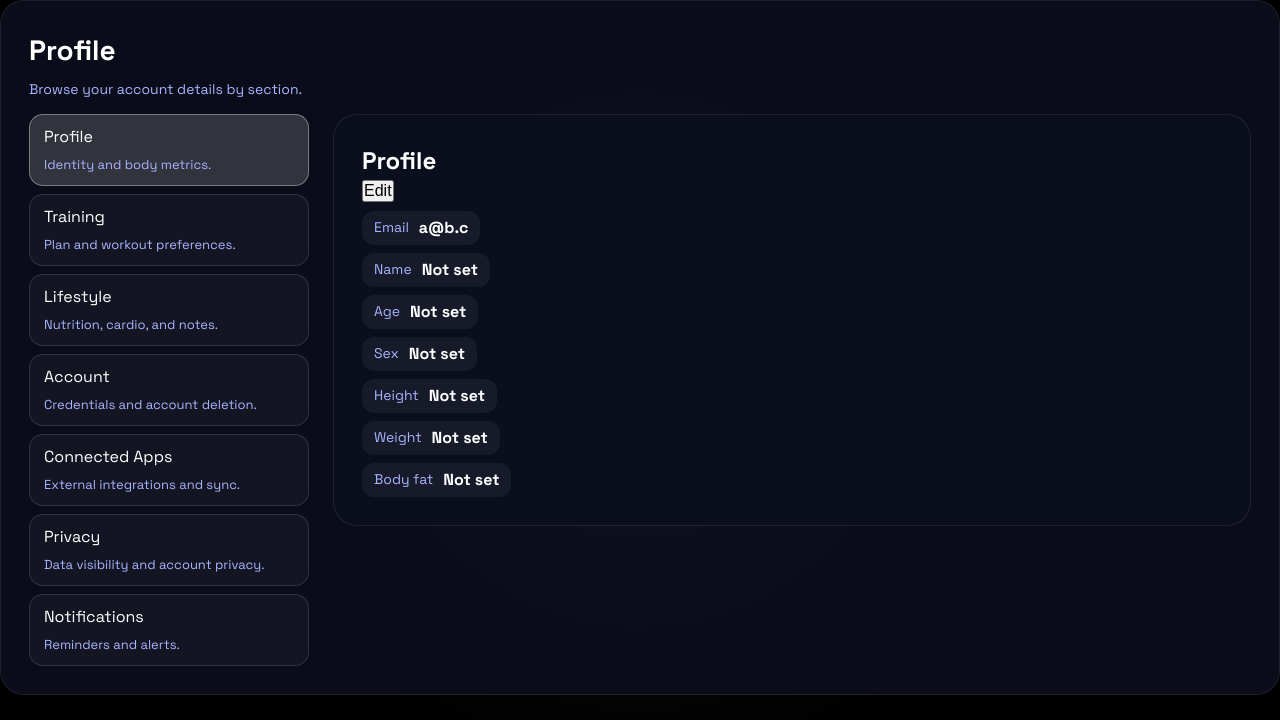
the rows read the stored profile › shows a stored Training value for Experience
Click the tab "Training Plan and workout preferences.": coordinates (74, 216) top-left (29, 194), bottom-right (309, 266)
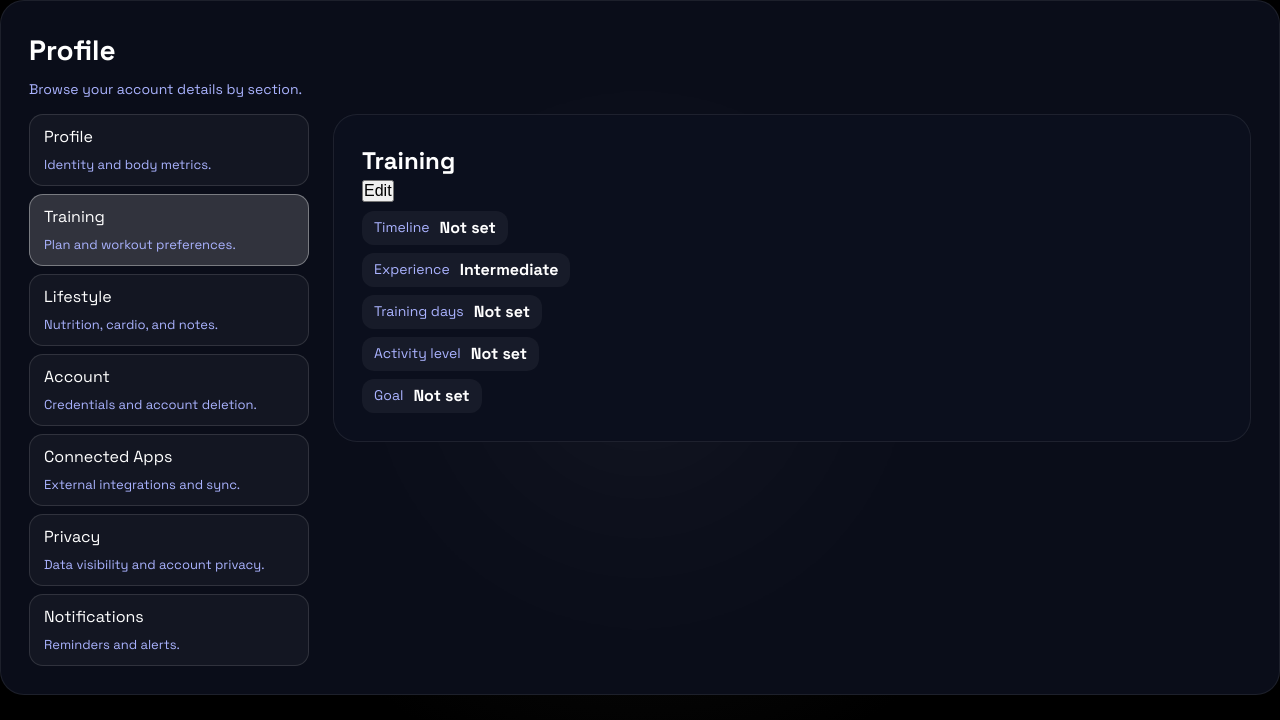
Now the text "Intermediate" is shown, box top-left (460, 260), bottom-right (558, 280)
